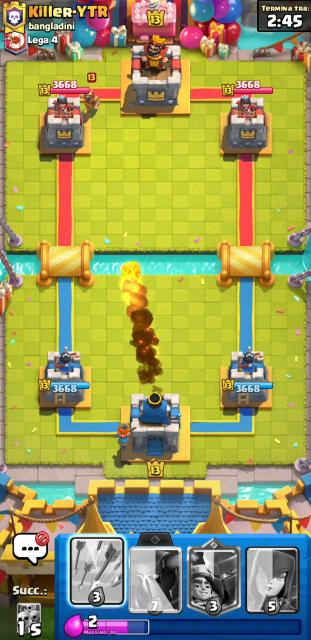enemy_melee: (79, 72, 100, 111)
